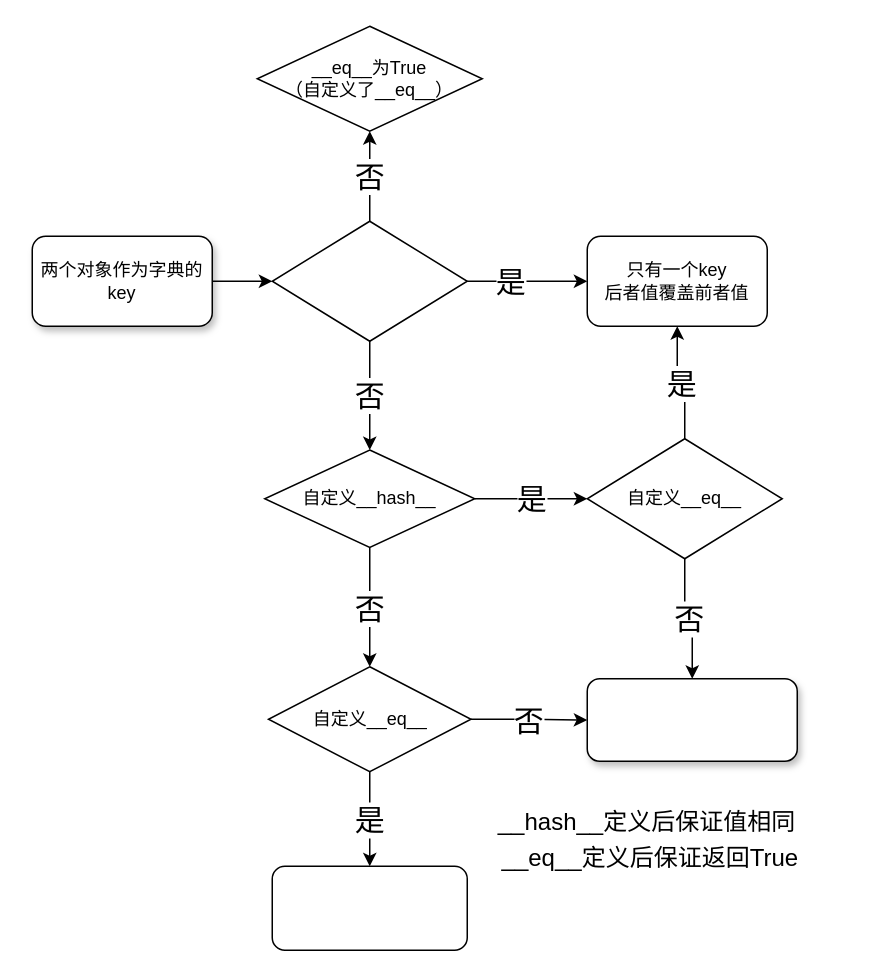
Image size: 869x977. Some labels were removed from this diagram. The shapes that lost their labels are listed below. From the top down, each one's centre as x and y in pixels, then its label:
At pixel 369 280: "相同对象 （地址相同）".
At pixel 693 721: "两个对象作为字典的两个key".
At pixel 369 907: "TypeError: unhashable type".
